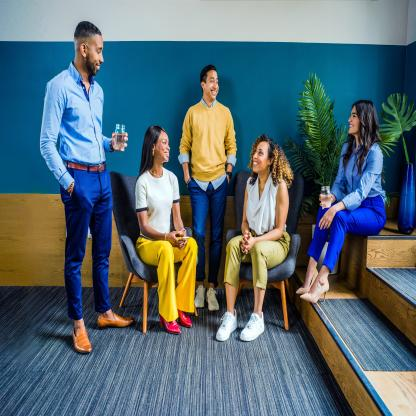person: (43, 24, 121, 353), (322, 80, 379, 322), (138, 119, 197, 340), (183, 64, 232, 314), (227, 131, 281, 337)
